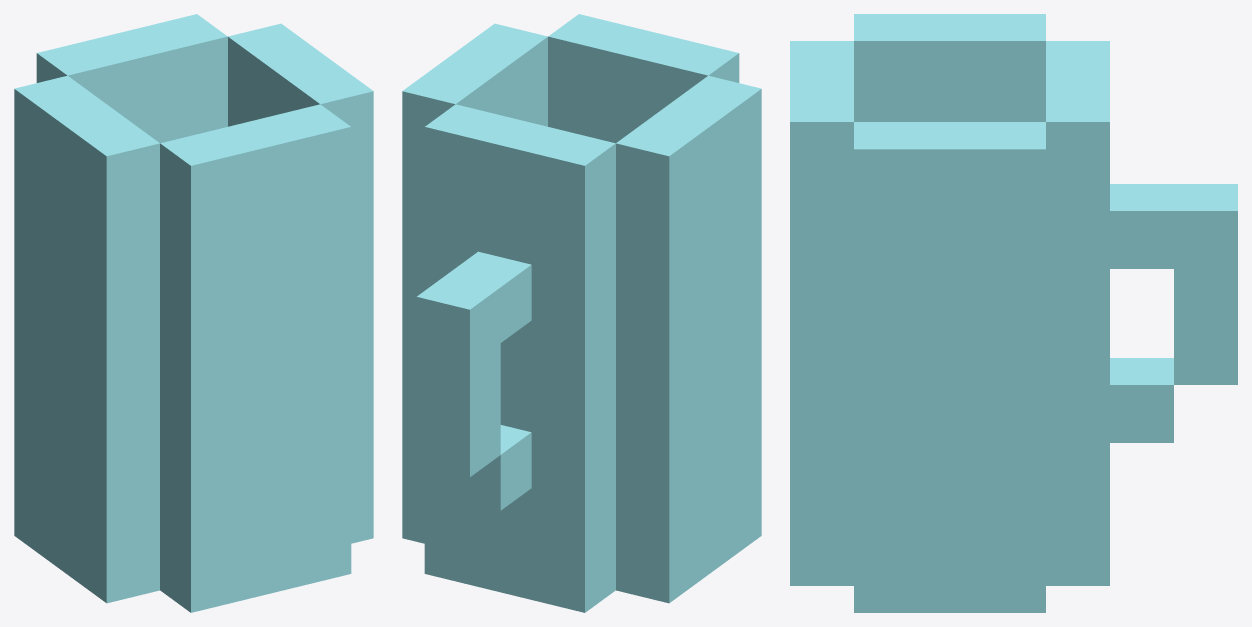
The model's file is glass.glb.
3 views of the same model, side by side, from view 1: azimuth 30°, elevation 25°; view 2: azimuth 150°, elevation 25°; view 3: azimuth 270°, elevation 25° (orthographic). The views are drawn at different scales.
Parts seen in each view (by area): view 1: glass; view 2: glass; view 3: glass.
Part boxes in pixels (bbox=[...]): glass: bbox=[14, 14, 373, 612]; glass: bbox=[402, 14, 761, 612]; glass: bbox=[790, 14, 1237, 612].
Size of the model in its own units: 20 by 32 by 28.
1 material, 1 textured.
